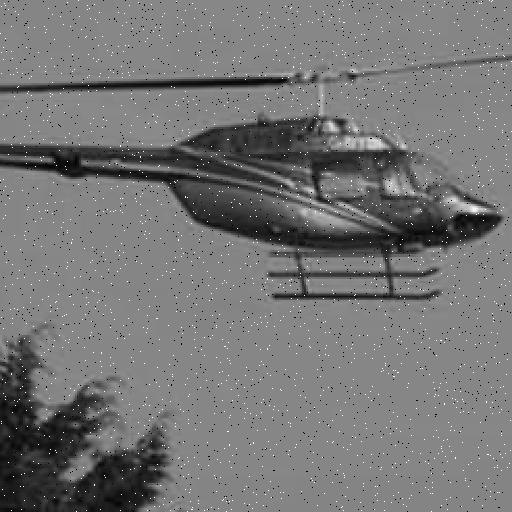helicopter: (1, 45, 512, 309)
